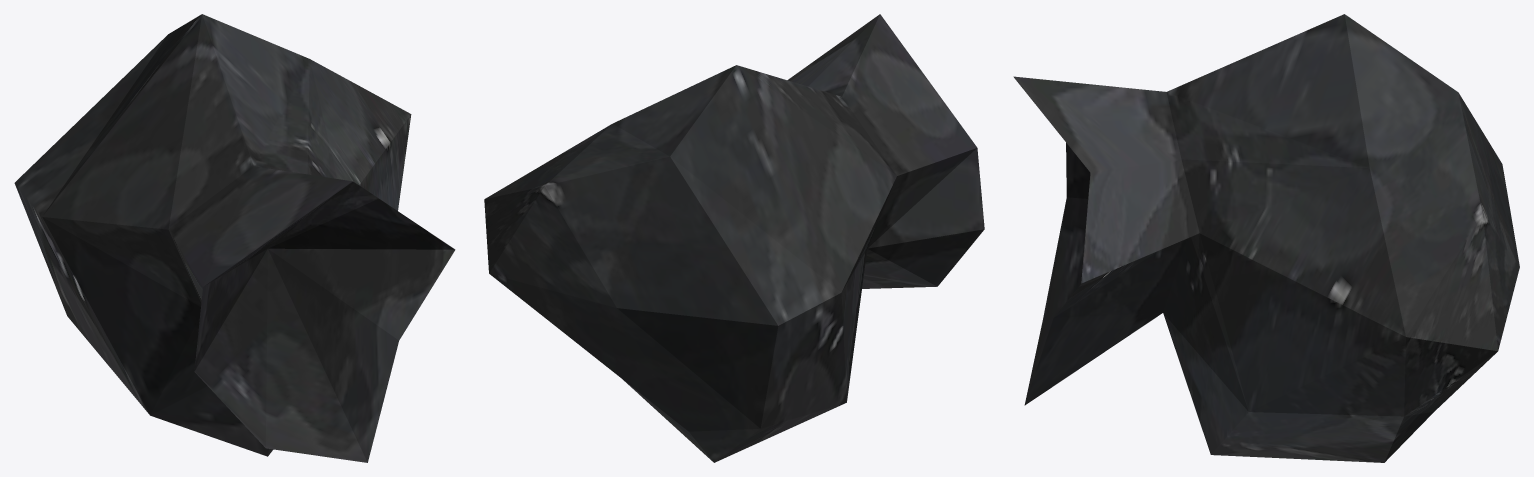
The model's file is prop_trashBag.glb.
The picture shows the model from 3 angles, left to right: view 1: azimuth 30°, elevation 25°; view 2: azimuth 150°, elevation 25°; view 3: azimuth 270°, elevation 25°; orthographic projection. The views are drawn at different scales.
Parts seen in each view (by area): view 1: prop_trashBag; view 2: prop_trashBag; view 3: prop_trashBag.
Part boxes in pixels (x1,y1,x2,y2): prop_trashBag: [14, 14, 455, 462]; prop_trashBag: [484, 14, 984, 462]; prop_trashBag: [1013, 14, 1519, 462].
Bounding box in the file's own units: 76.15 × 79.41 × 81.79.
Materials: 1 (1 with a texture image).
